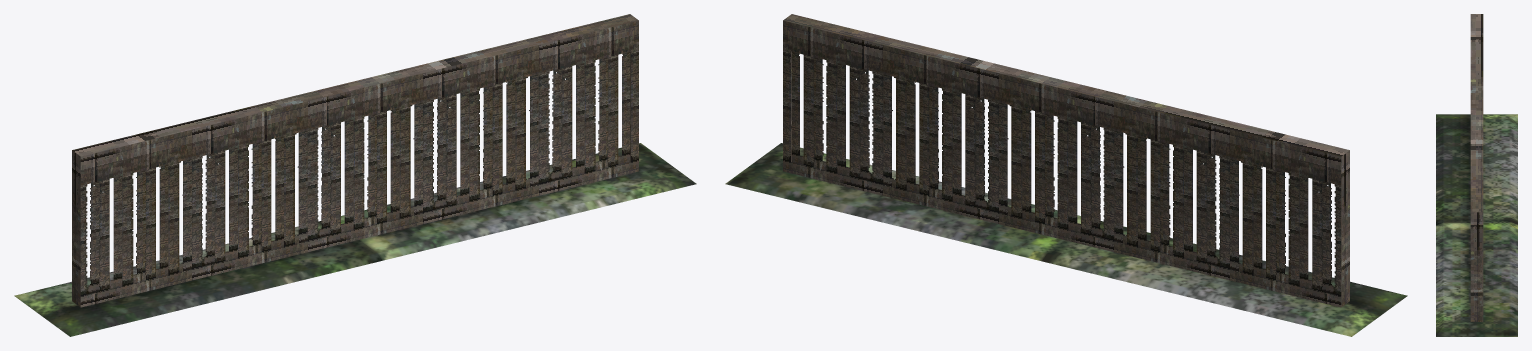
Rendered from DNAGate.glb.
3 renders of one model, left to right at view 1: azimuth 30°, elevation 25°; view 2: azimuth 150°, elevation 25°; view 3: azimuth 270°, elevation 25°, orthographic. The views are drawn at different scales.
Visible parts, largest first — view 1: Cube_001, Cube; view 2: Cube_001, Cube; view 3: Cube, Cube_001.
Part boxes in pixels (<box>): Cube_001: <box>72,14,638,307</box>; Cube: <box>14,143,696,336</box>; Cube_001: <box>783,14,1349,307</box>; Cube: <box>725,143,1407,336</box>; Cube: <box>1436,114,1517,336</box>; Cube_001: <box>1470,14,1483,321</box>.
Bounding box in the file's own units: 8.63 × 2.03 × 1.34.
2 materials, 2 textured.
